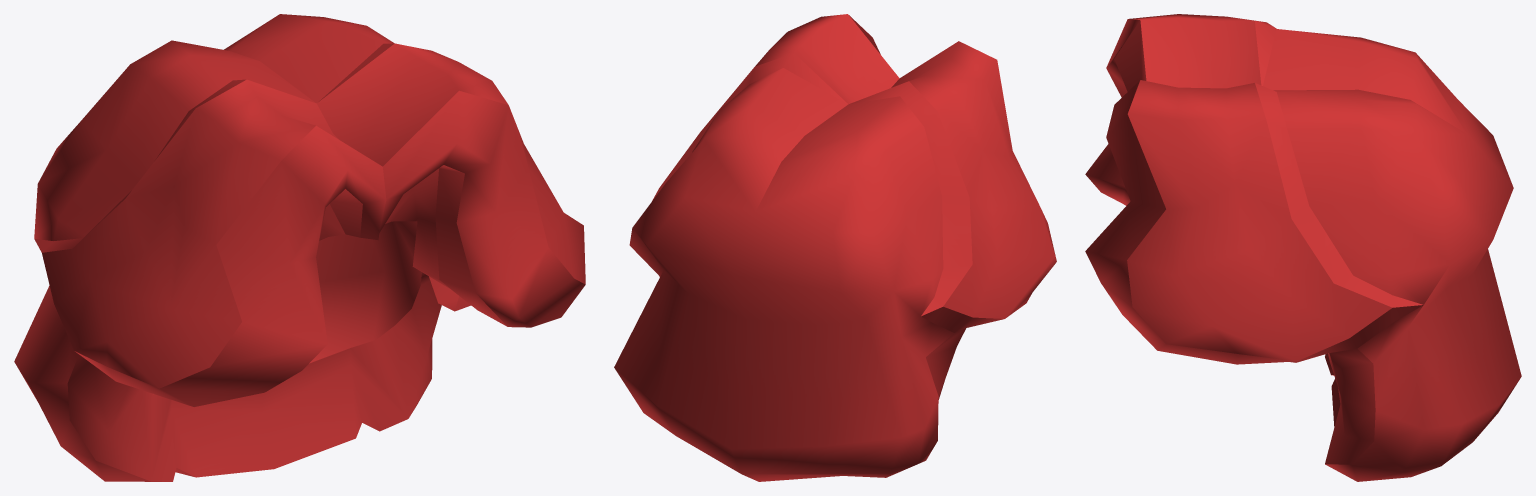
File: Hair_Red_6.fbx
The picture shows the model from 3 angles, left to right: view 1: azimuth 30°, elevation 25°; view 2: azimuth 150°, elevation 25°; view 3: azimuth 270°, elevation 25°; orthographic projection. The views are drawn at different scales.
Visible parts, largest first — view 1: Hair_Red_6; view 2: Hair_Red_6; view 3: Hair_Red_6.
Part boxes in pixels (bbox=[...]): Hair_Red_6: bbox=[14, 14, 585, 481]; Hair_Red_6: bbox=[614, 14, 1056, 481]; Hair_Red_6: bbox=[1085, 14, 1521, 481].
Size of the model in its own units: 71.21 by 65.88 by 65.95.
